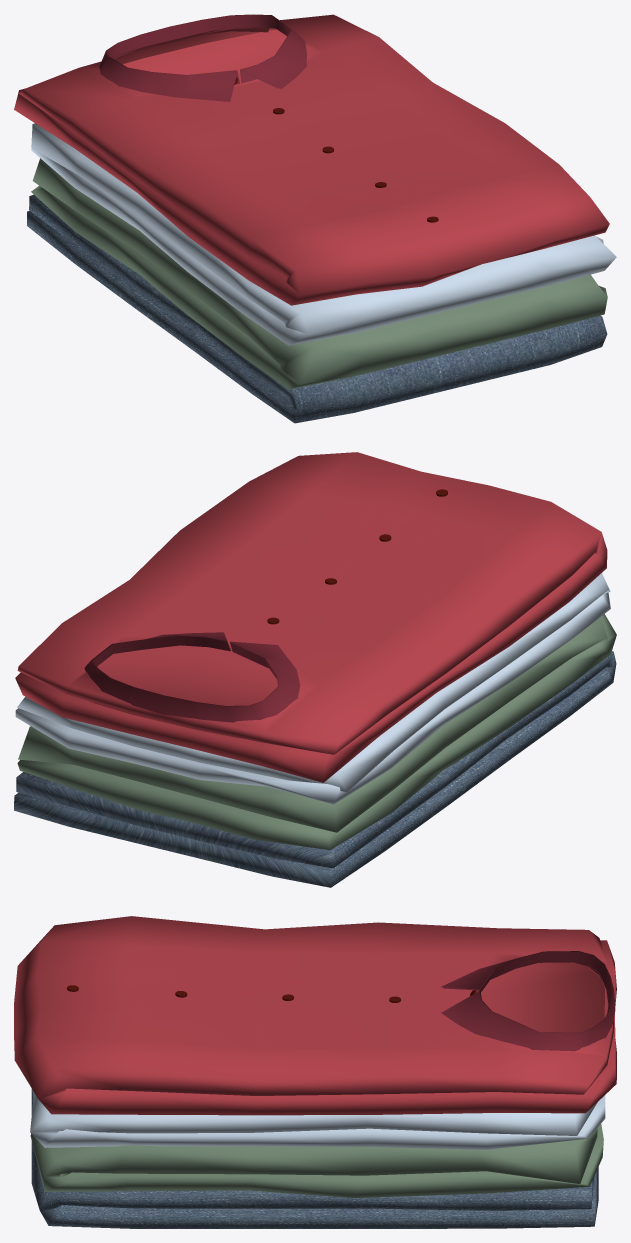
File: folded_clothes.glb
The picture shows the model from 3 angles, top to bottom: view 1: azimuth 30°, elevation 25°; view 2: azimuth 150°, elevation 25°; view 3: azimuth 270°, elevation 25°; orthographic projection. The views are drawn at different scales.
Parts seen in each view (by area): view 1: Object_2, Object_4, Object_3; view 2: Object_2, Object_4, Object_3; view 3: Object_2, Object_4, Object_3.
Boxes of the visible parts, x1,y1,x2,y2 form: Object_2: (14, 14, 616, 345); Object_4: (31, 77, 607, 389); Object_3: (27, 194, 607, 423); Object_2: (15, 452, 610, 804); Object_4: (17, 489, 616, 849); Object_3: (14, 651, 616, 887); Object_2: (14, 916, 616, 1149); Object_4: (30, 985, 603, 1197); Object_3: (31, 1088, 598, 1228).
Size of the model in its own units: 26.33 by 12.24 by 40.41.
3 materials, 3 textured.
